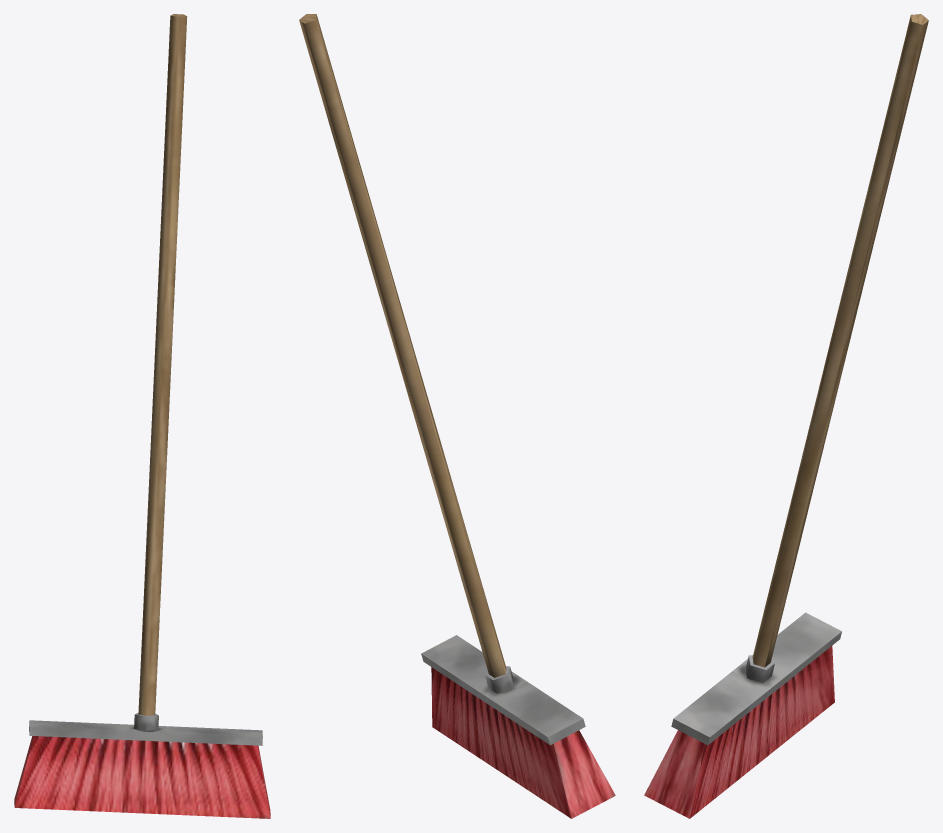
3 renders of one model, left to right at view 1: azimuth 30°, elevation 25°; view 2: azimuth 150°, elevation 25°; view 3: azimuth 270°, elevation 25°, orthographic. The views are drawn at different scales.
Visible parts, largest first — view 1: Broom_01001_Broom_01_0; view 2: Broom_01001_Broom_01_0; view 3: Broom_01001_Broom_01_0.
Boxes of the visible parts, left/top/right/bottom form: Broom_01001_Broom_01_0: left=14, top=14, right=270, bottom=818; Broom_01001_Broom_01_0: left=299, top=14, right=615, bottom=818; Broom_01001_Broom_01_0: left=644, top=14, right=928, bottom=818.
Size of the model in its own units: 0.4605 by 1.38 by 0.442.
Materials: 1 (1 with a texture image).
